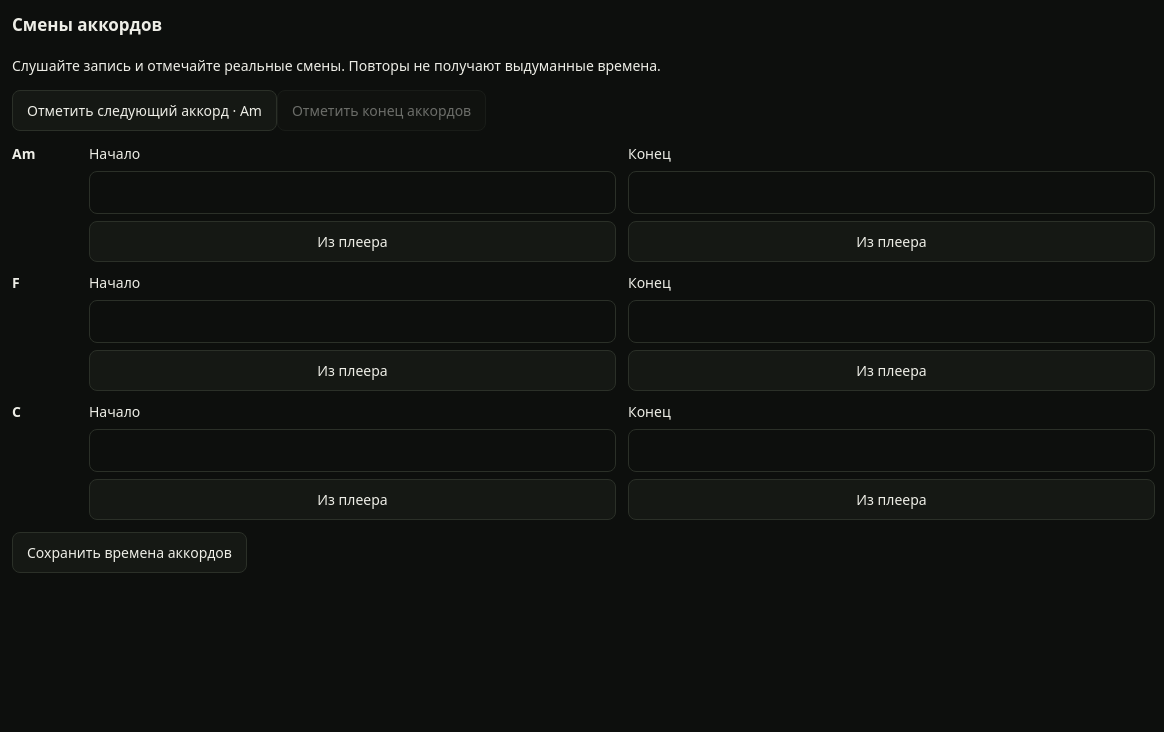
Test case: validates partial intervals and keeps the input after an invalid save
Type "5" into the number field named "Начало аккорда Am" at (352, 192), box [89,170,616,214]
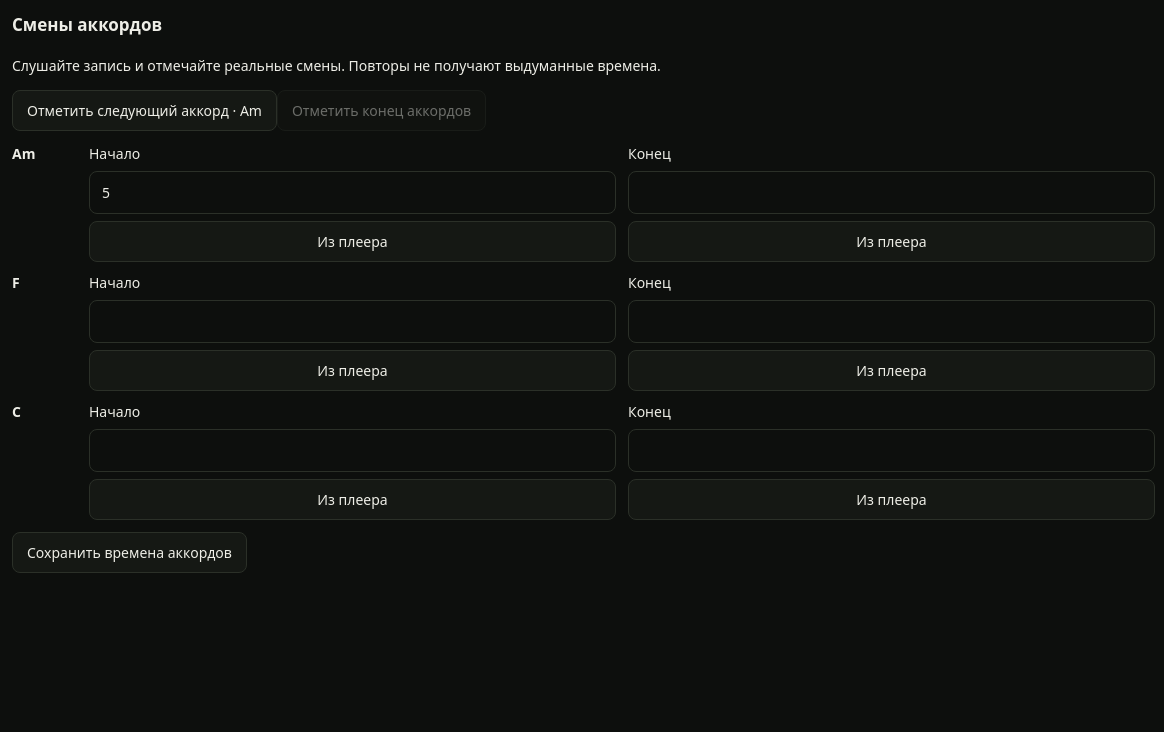
Type "4" into the number field named "Конец аккорда Am" at (892, 192), box [628,170,1155,214]
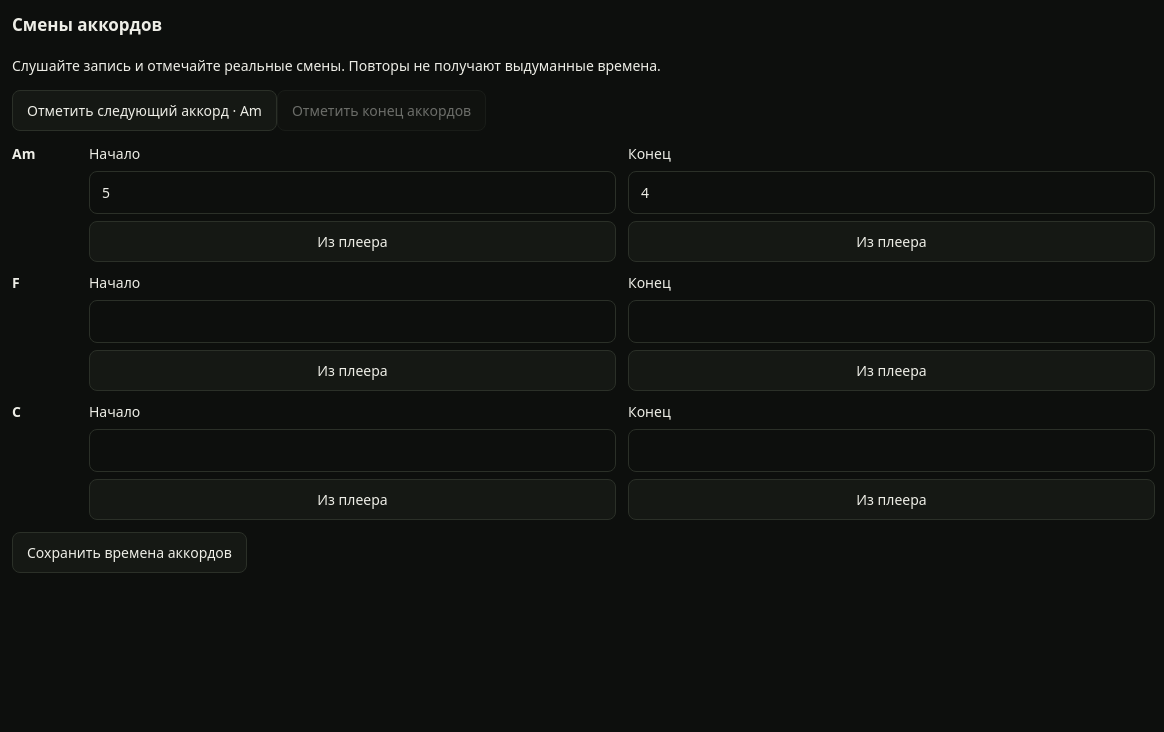
Click the button "Сохранить времена аккордов" at (129, 552), box [12,532,247,572]
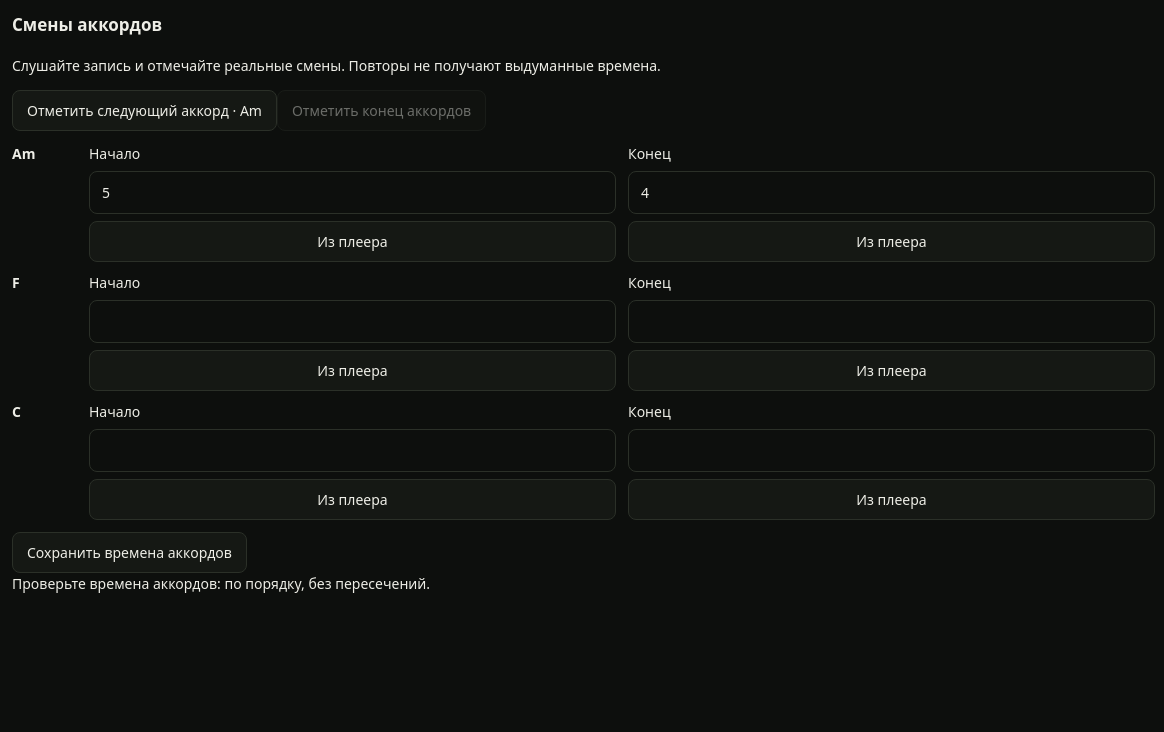
Result: the message "Проверьте времена аккордов: по порядку, без пересечений." is shown at [12,574,430,592]
